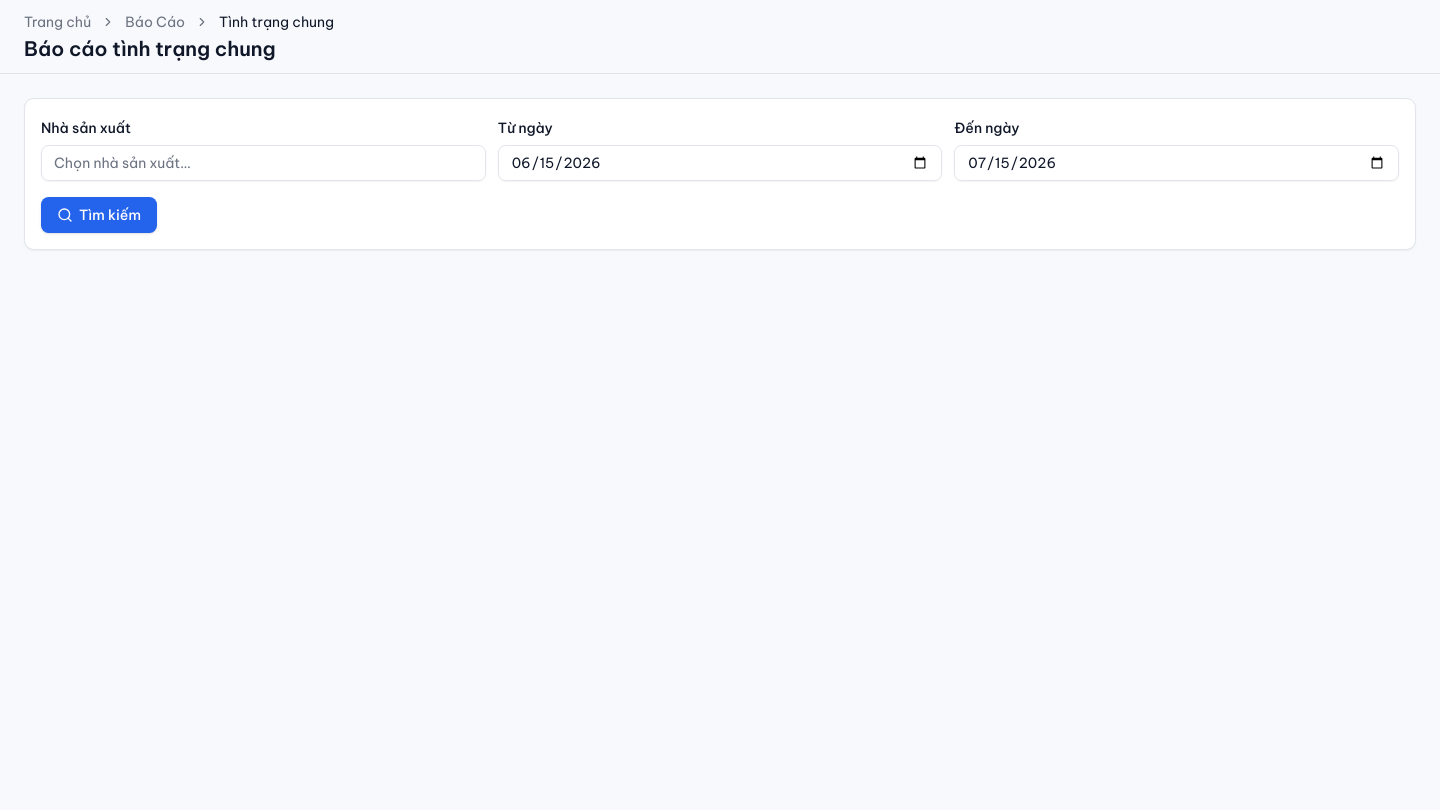
Test case: TinhTrangChungReportPage › renders both column and pie charts with the §5b palette after Tìm kiếm
Click the button "Tìm kiếm" at (99, 215), box 41,197 -> 157,233
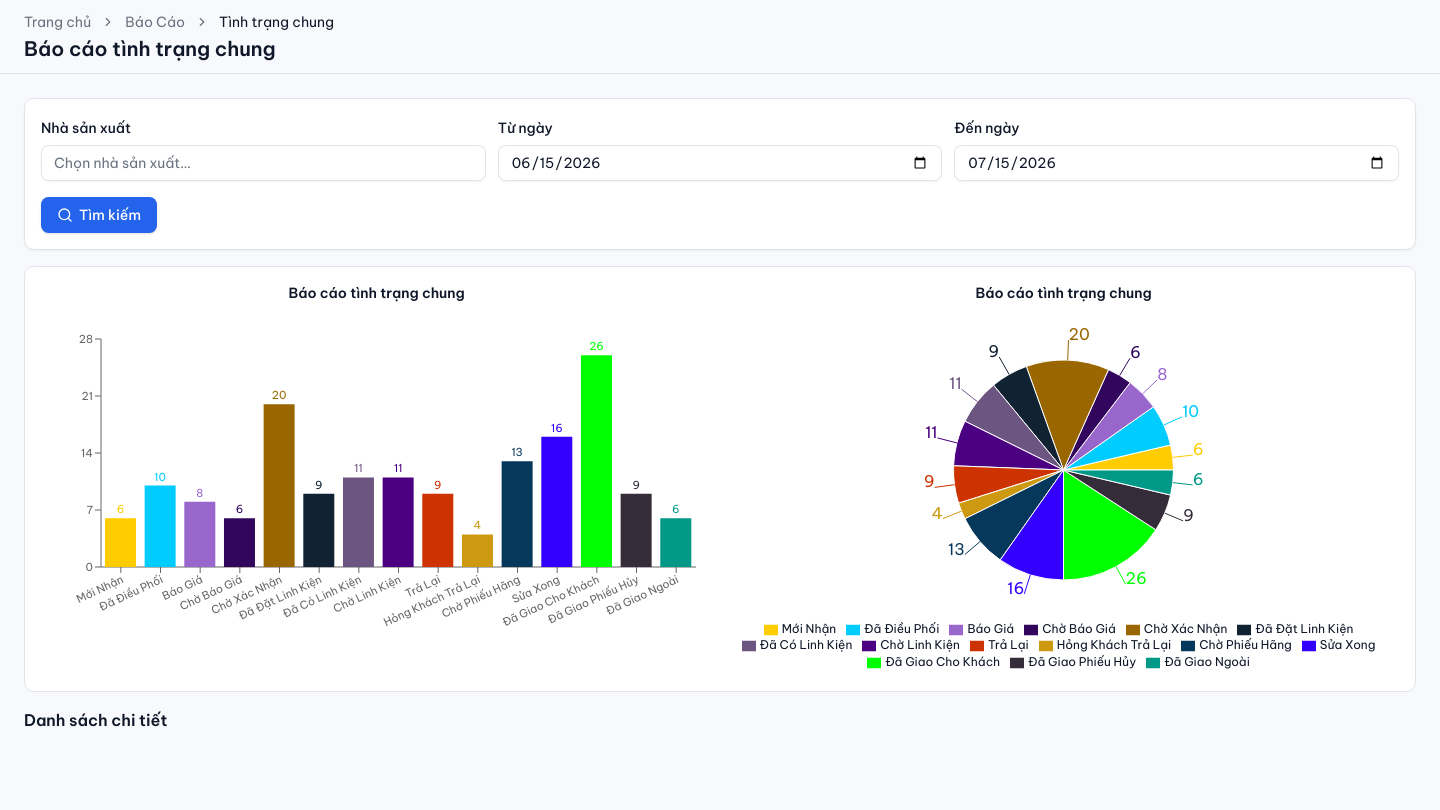
Expected: the heading "Danh sách chi tiết" is shown, 24,710 -> 167,730
